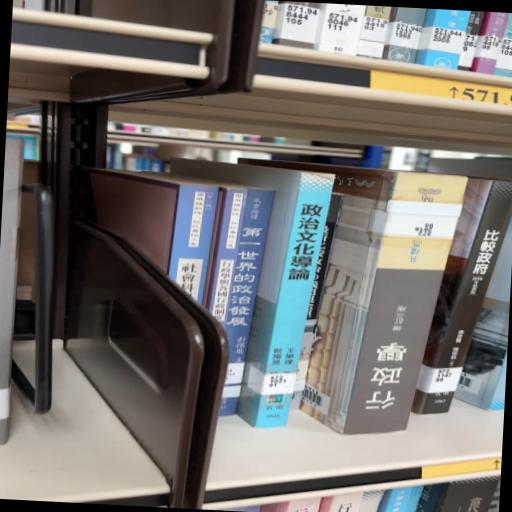reverse: (303, 168, 468, 436)
